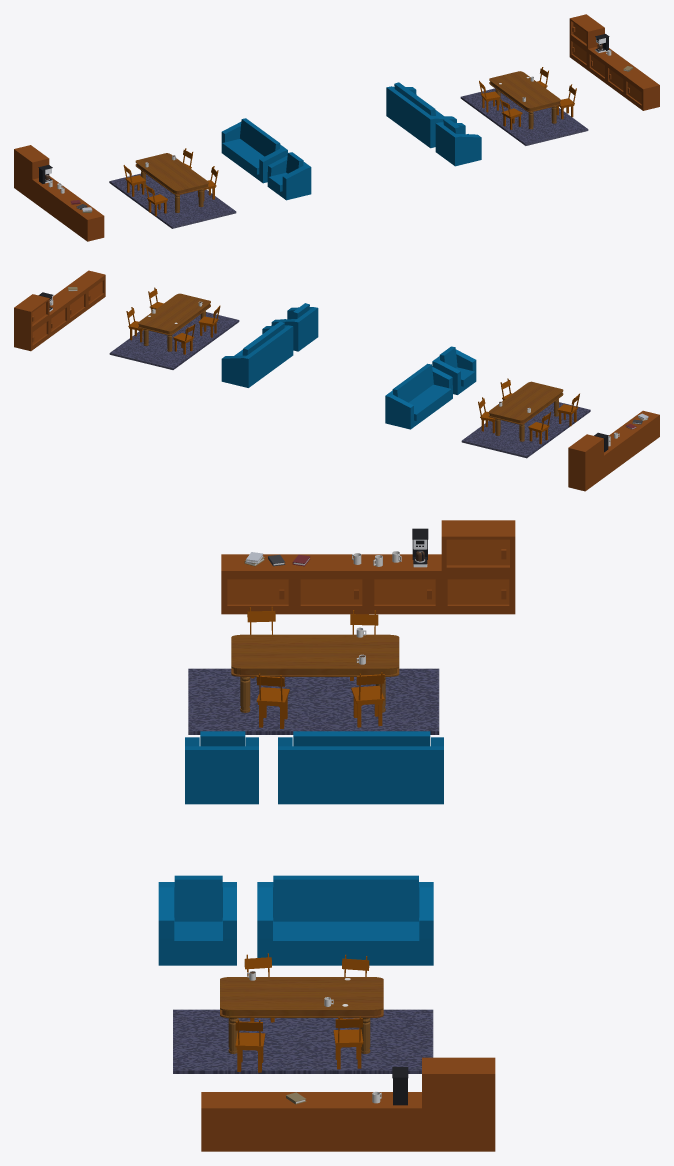
The model's file is SalaProfessores.fbx.
3 views of the same model, one above another, from view 1: azimuth 30°, elevation 25°; view 2: azimuth 150°, elevation 25°; view 3: azimuth 270°, elevation 25° (orthographic). The views are drawn at different scales.
Visible parts, largest first — view 1: Sala Professores.002; view 2: Sala Professores.002; view 3: Sala Professores.002.
Boxes of the visible parts, x1=… form: Sala Professores.002: x1=14, y1=14, x2=659, y2=241; Sala Professores.002: x1=14, y1=270, x2=659, y2=491; Sala Professores.002: x1=158, y1=520, x2=515, y2=1151.
Size of the model in its own units: 457 by 29.88 by 124.
